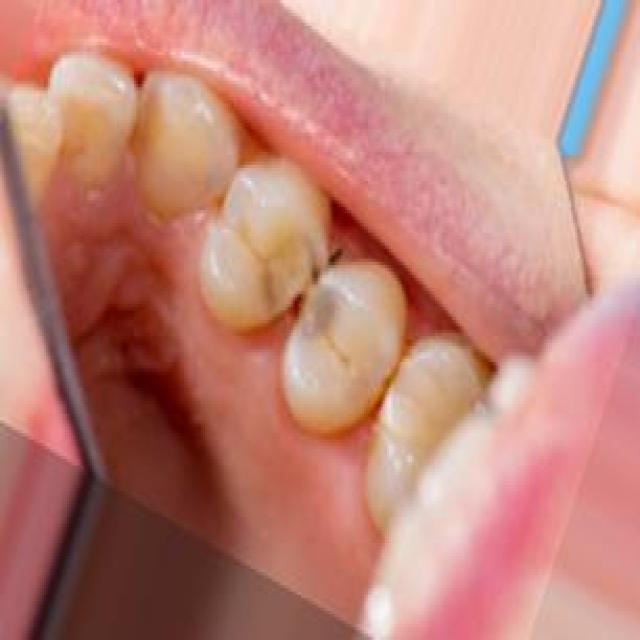caries: (249, 219, 352, 362)
